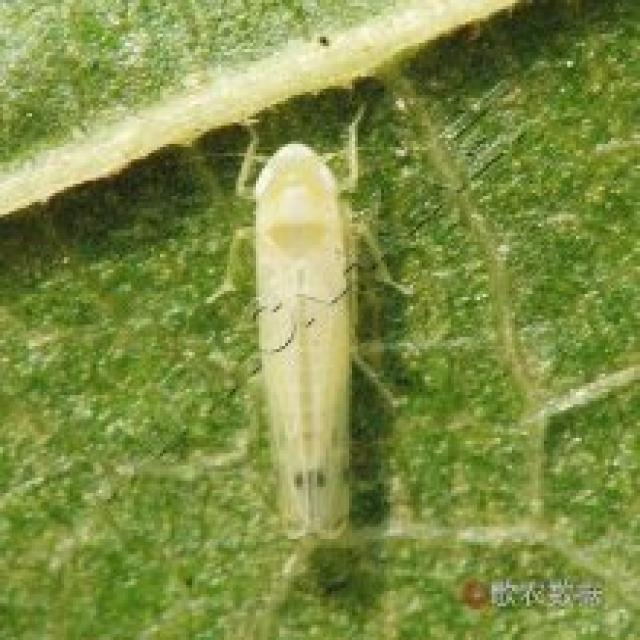Yechan: (210, 96, 423, 540)
